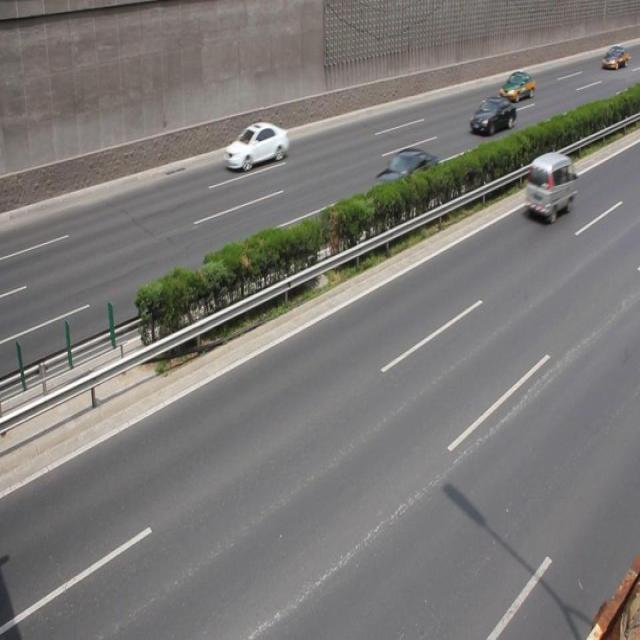car: (371, 146, 442, 210), (223, 121, 288, 173), (468, 98, 516, 134), (498, 72, 535, 101)
truck: (523, 151, 575, 224)
